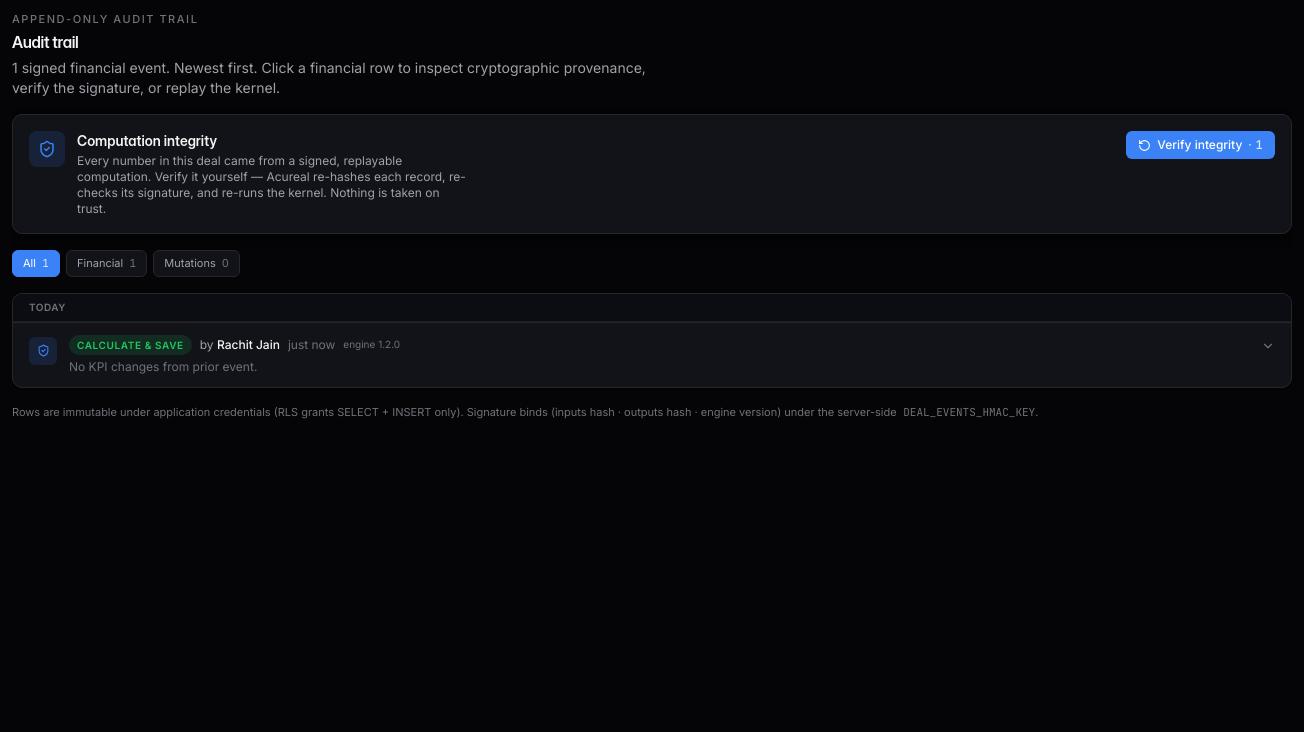
Test: AuditTab › expand toggle reveals cryptographic provenance + KPI snapshot
// Click the row to expand
Click the button that starts with "Calculate & Save". click: (130, 345)
box: top-left (13, 323), bottom-right (1291, 387)
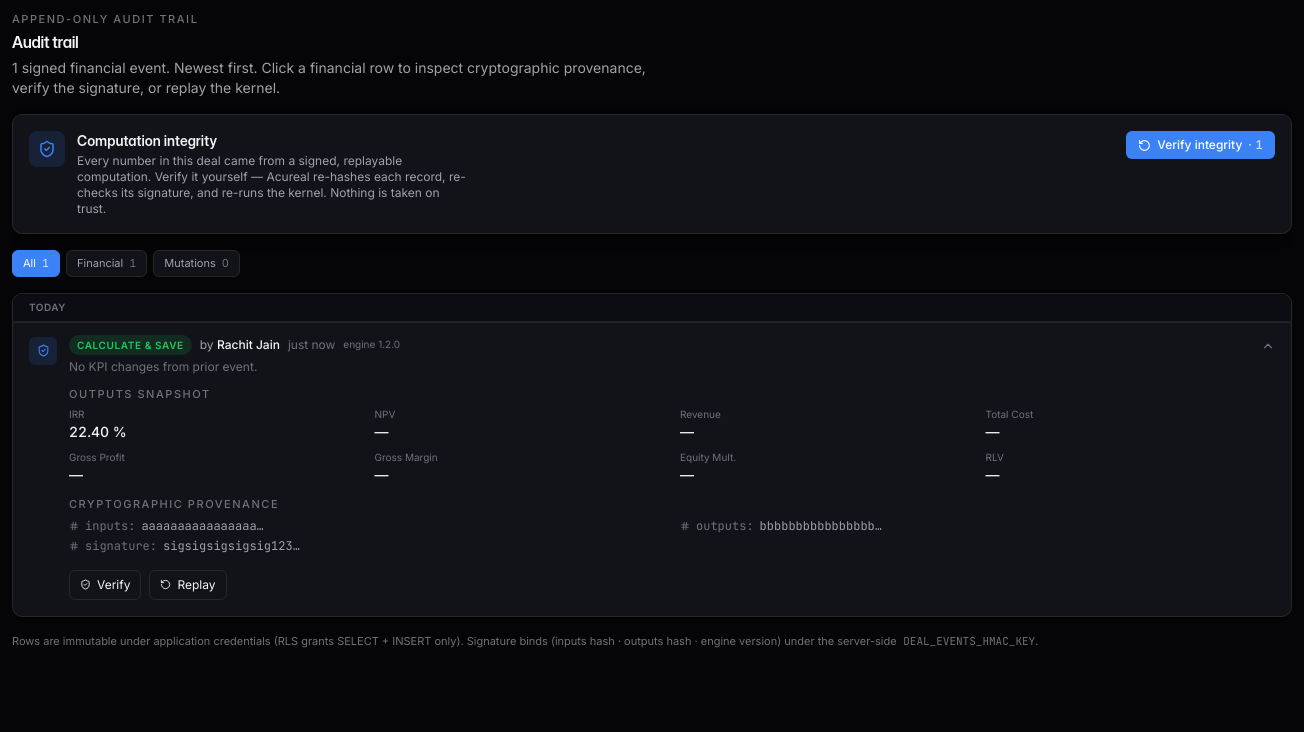
Expected: the text "Outputs snapshot" is shown, top-left (69, 387), bottom-right (211, 401)
Expected: the button "Verify" is shown, top-left (69, 570), bottom-right (141, 600)
Expected: the button "Replay" is shown, top-left (149, 570), bottom-right (226, 600)
